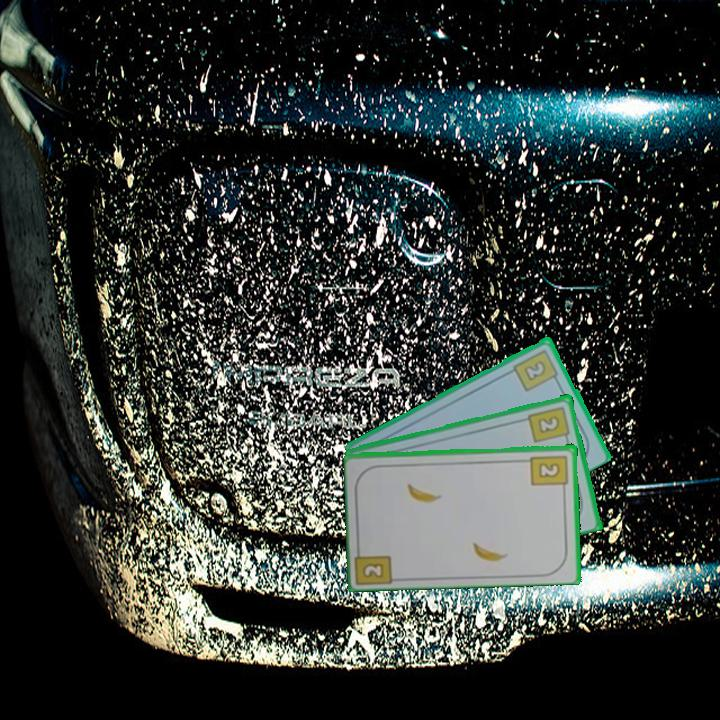2b: (510, 345, 562, 394), (525, 402, 573, 445), (528, 451, 571, 493), (359, 559, 387, 581)
